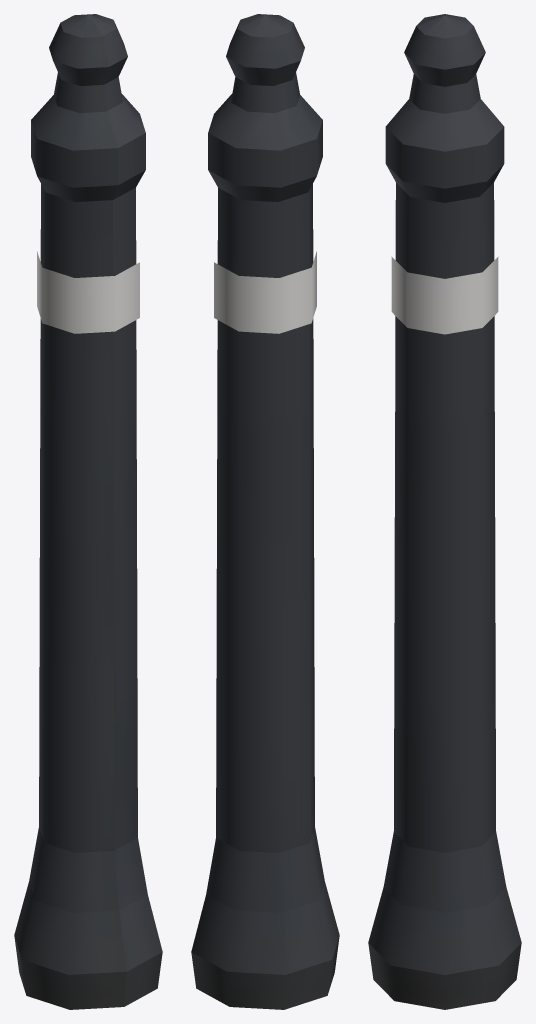
File: potelet_lod1.glb
The picture shows the model from 3 angles, left to right: view 1: azimuth 30°, elevation 25°; view 2: azimuth 150°, elevation 25°; view 3: azimuth 270°, elevation 25°; orthographic projection.
Visible parts, largest first — view 1: potelet; view 2: potelet; view 3: potelet.
Part boxes in pixels (x1=…): potelet: x1=14, y1=14, x2=162, y2=1009; potelet: x1=191, y1=14, x2=339, y2=1009; potelet: x1=368, y1=14, x2=521, y2=1009.
Size of the model in its own units: 0.15 by 1.04 by 0.15.
1 material, 1 textured.
